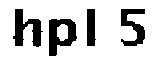5: (119, 5, 152, 50)
h: (10, 6, 42, 51)
l: (83, 6, 107, 51)
p: (47, 13, 79, 60)
